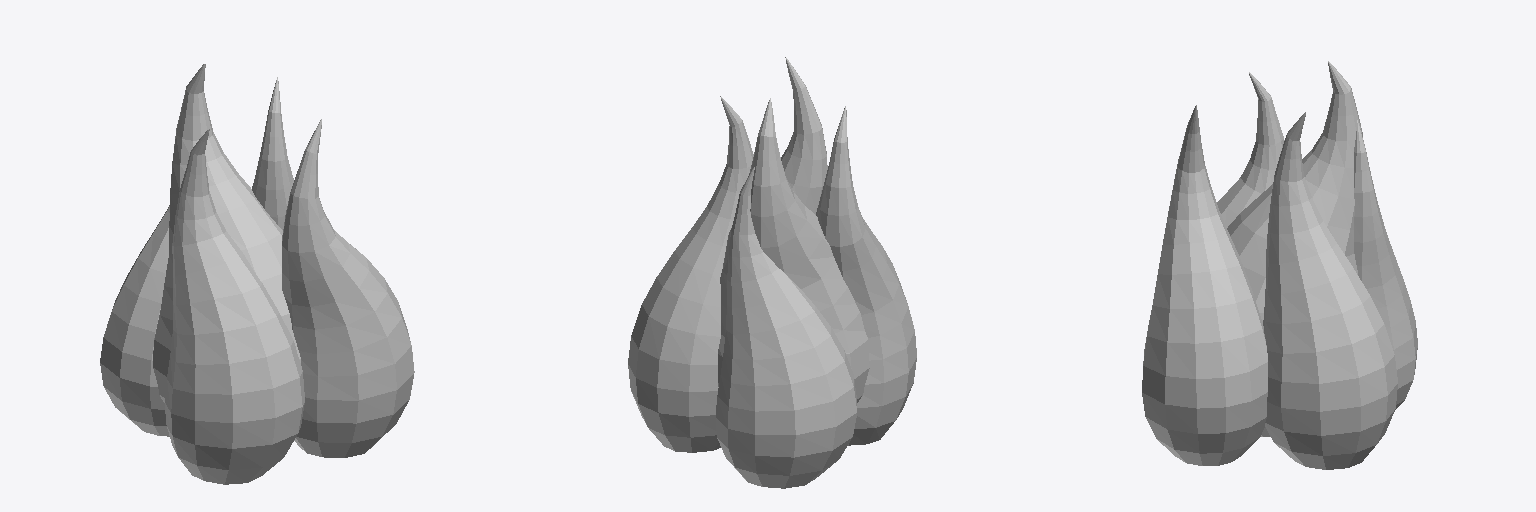
Rendered from fire_000003.obj.
3 views of the same model, side by side, from view 1: azimuth 30°, elevation 25°; view 2: azimuth 150°, elevation 25°; view 3: azimuth 270°, elevation 25° (orthographic).
Parts seen in each view (by area): view 1: flame_NurbsPath.015; view 2: flame_NurbsPath.015; view 3: flame_NurbsPath.015.
Boxes of the visible parts, <box> form: flame_NurbsPath.015: <box>100,64,414,484</box>; flame_NurbsPath.015: <box>628,57,916,488</box>; flame_NurbsPath.015: <box>1142,61,1417,469</box>.
Bounding box in the file's own units: 0.7542 × 1.16 × 0.7986.